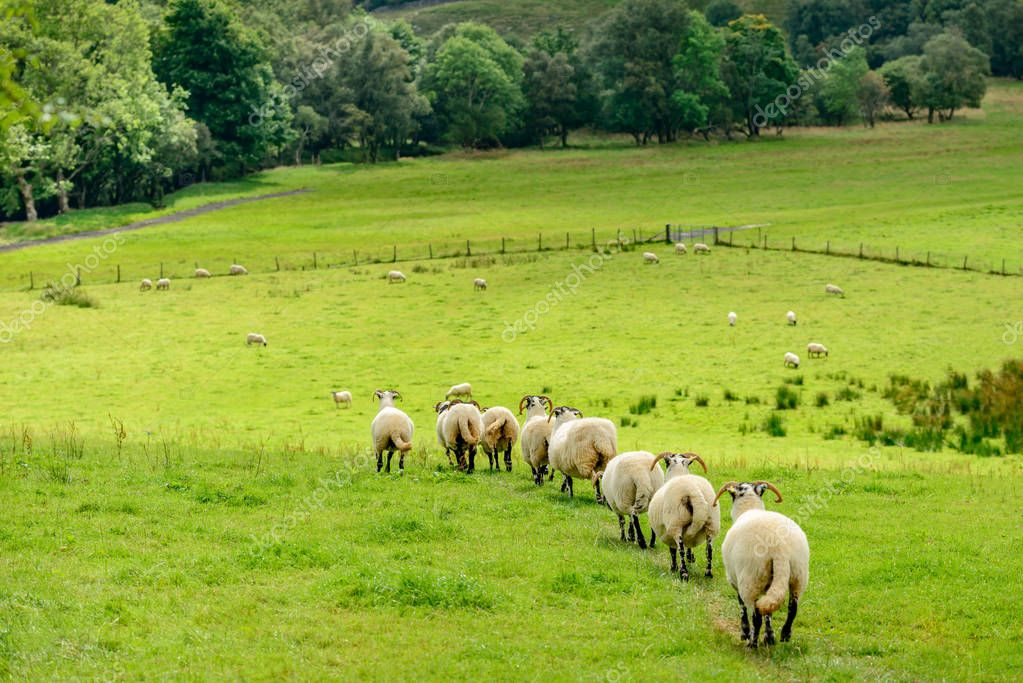sheep: (717, 466, 811, 645), (654, 446, 737, 580), (593, 437, 665, 559), (553, 399, 613, 491), (437, 385, 493, 471), (516, 386, 557, 489), (373, 385, 419, 466), (477, 403, 522, 479), (331, 382, 367, 416), (241, 323, 281, 353), (823, 281, 851, 304), (803, 340, 831, 359), (781, 348, 804, 370), (693, 239, 715, 259), (785, 308, 805, 329), (228, 264, 250, 283), (641, 247, 663, 264), (725, 310, 744, 329), (134, 271, 153, 289), (387, 268, 407, 285), (470, 277, 490, 294), (191, 267, 215, 281), (671, 241, 692, 256), (154, 277, 170, 290)
